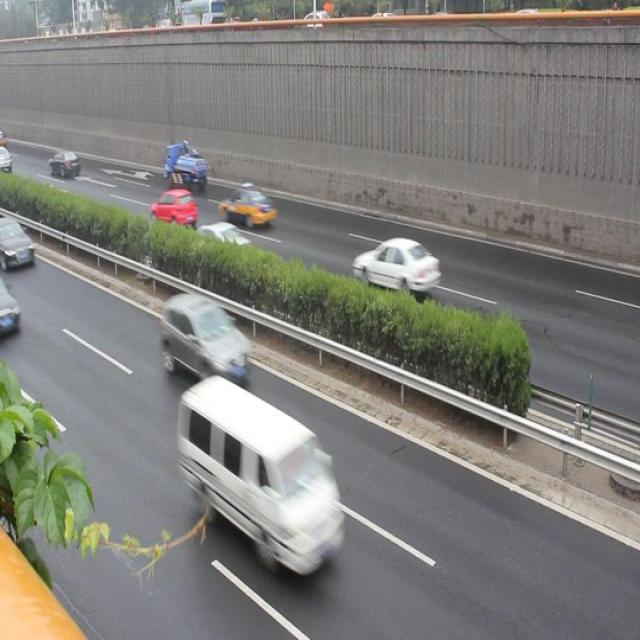bus: (159, 135, 209, 191)
car: (157, 286, 253, 392), (348, 226, 442, 308), (197, 208, 254, 266), (222, 176, 276, 234), (150, 184, 198, 231), (1, 213, 36, 273), (1, 272, 26, 342)
truck: (167, 369, 349, 574)
